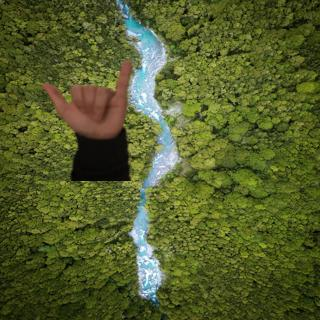HAVE: (37, 56, 135, 137)
